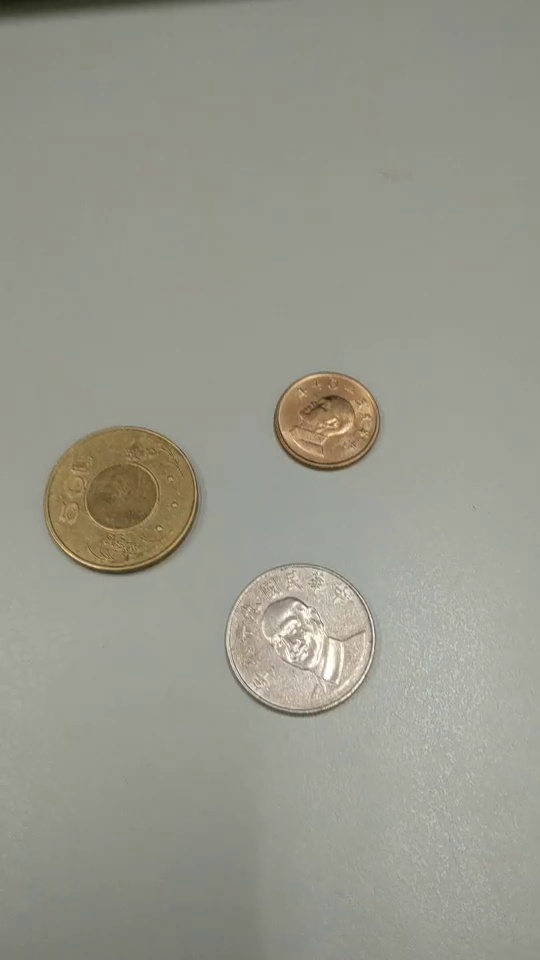NT$ 1: (273, 373, 382, 471)
NT$ 10: (224, 562, 377, 717)
NT$ 50: (45, 427, 199, 576)
